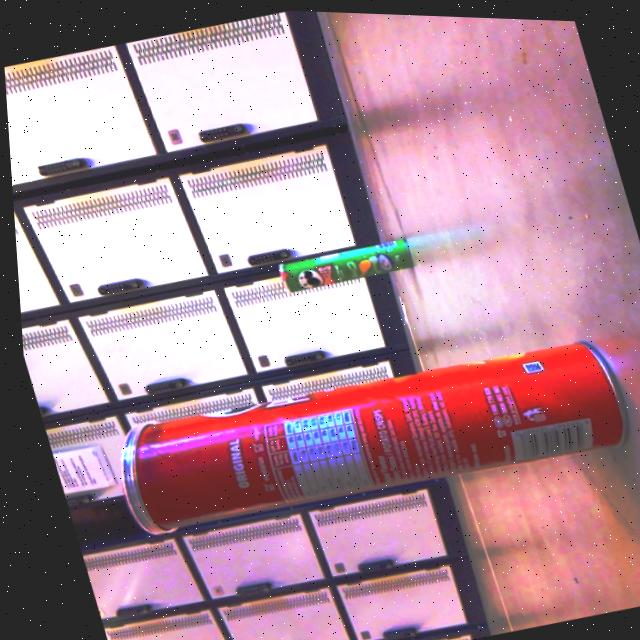greenpringles: (248, 214, 428, 322)
redpringles: (75, 301, 640, 583)
